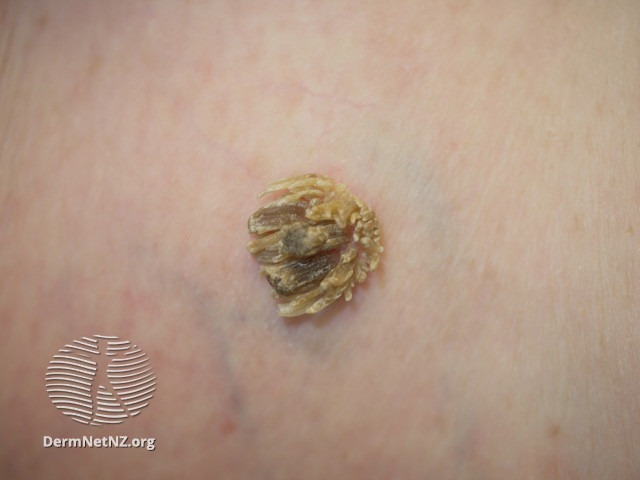Warts: (237, 153, 392, 332)
